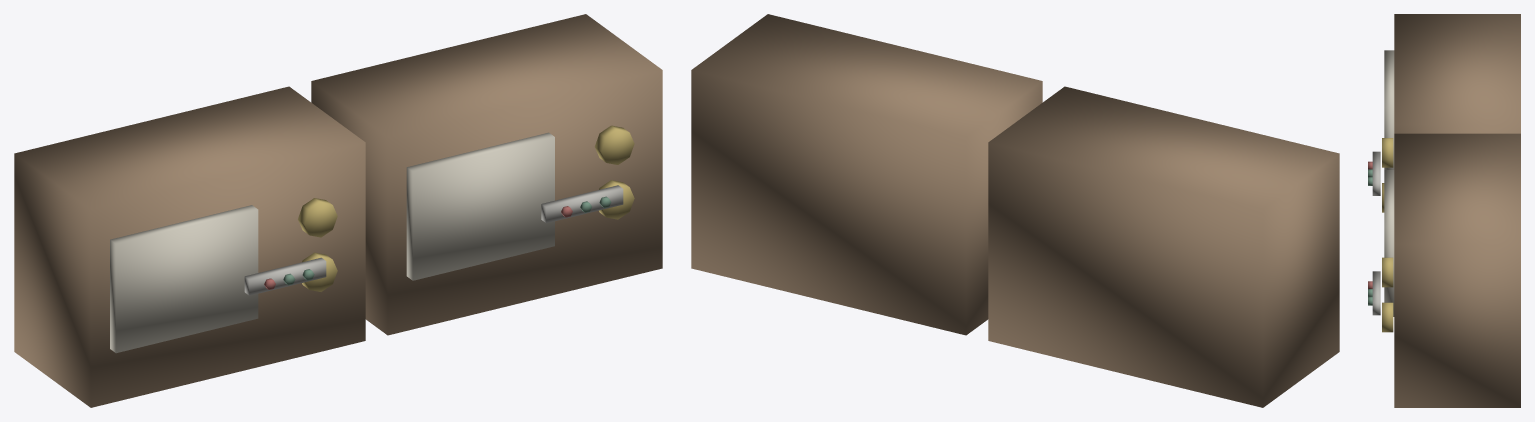
The model's file is tube_radio__cluster.glb.
3 views of the same model, side by side, from view 1: azimuth 30°, elevation 25°; view 2: azimuth 150°, elevation 25°; view 3: azimuth 270°, elevation 25° (orthographic). The views are drawn at different scales.
Visible parts, largest first — view 1: world; view 2: world; view 3: world.
Part boxes in pixels (box(x1,y1,x2,y2)): world: box(14, 14, 662, 407); world: box(691, 14, 1339, 407); world: box(1368, 14, 1520, 407).
Size of the model in its own units: 1.21 by 0.4 by 0.3385.
